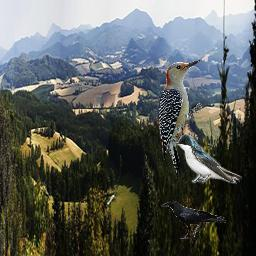Crow: (161, 200, 226, 239)
Swallow: (175, 133, 242, 184)
Woodpecker: (159, 57, 204, 184)
